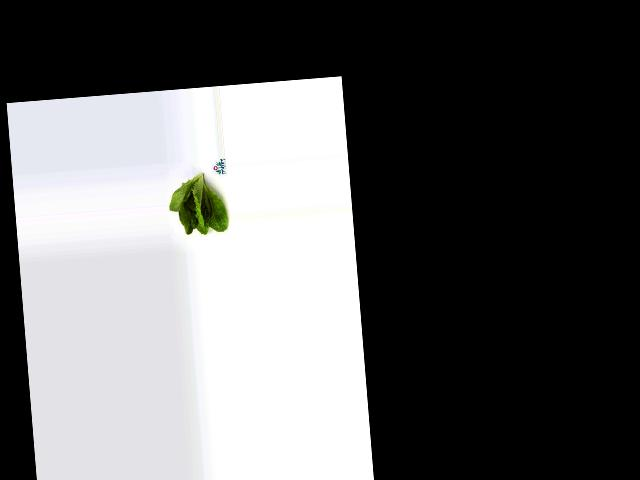lettuce: (165, 171, 228, 239)
